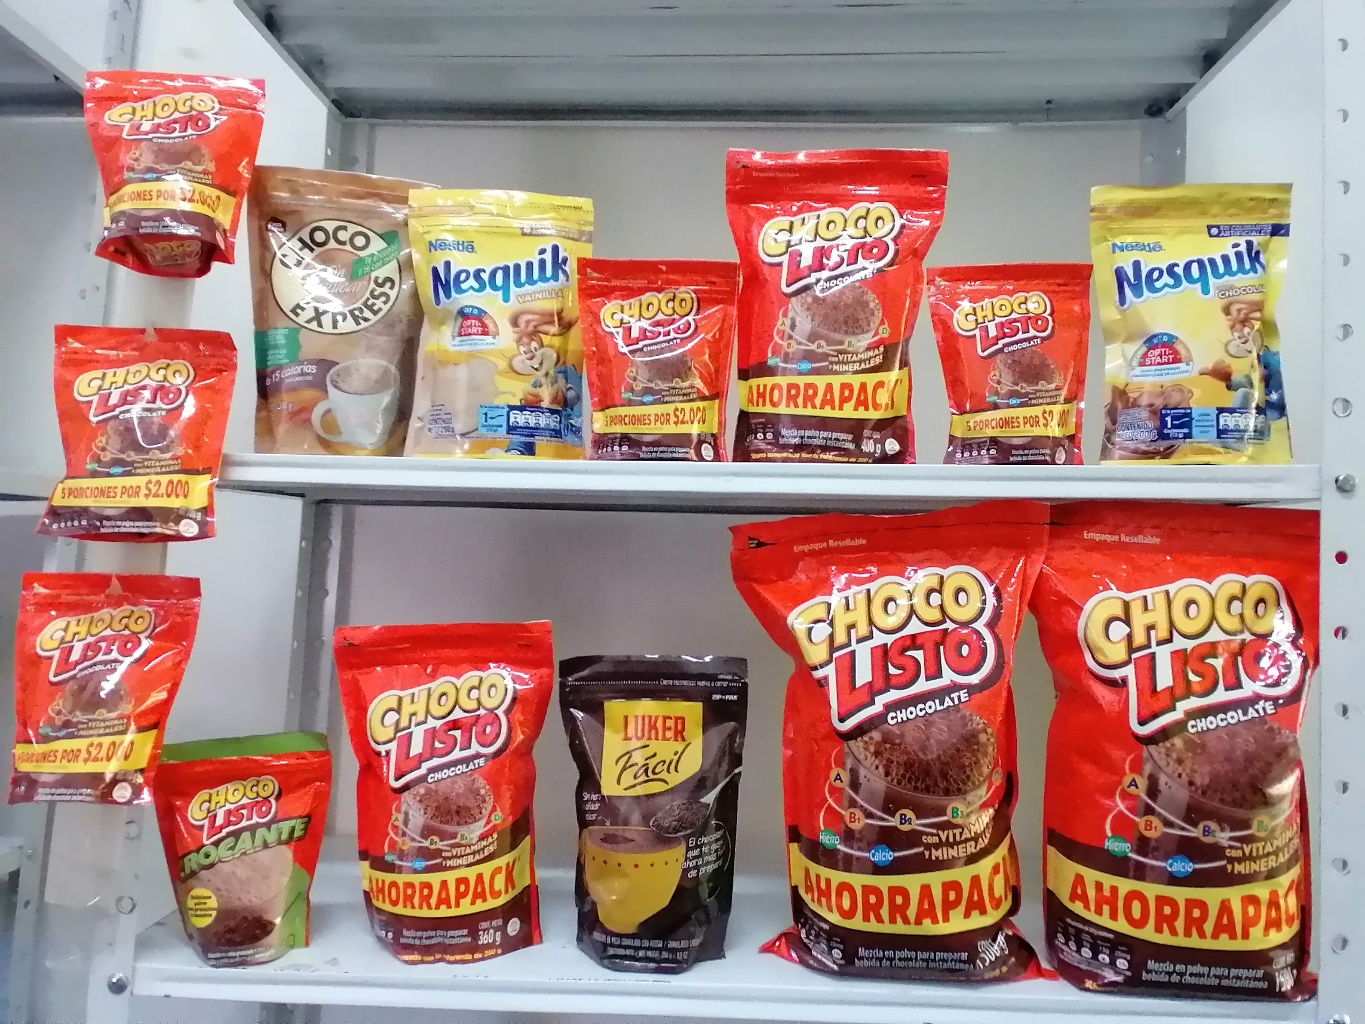COL0170102DYP10000: (136, 723, 331, 970)
COL0170103DYP1,500: (1022, 495, 1332, 999)
COL0170103DYP10000: (82, 73, 265, 284)
COL0170103DYP36000: (325, 618, 555, 968)
COL0170103DYP40000: (722, 146, 950, 461)
COL0170303DYP20000: (1089, 182, 1300, 466)
COL0170306DYP20000: (400, 187, 599, 463)
